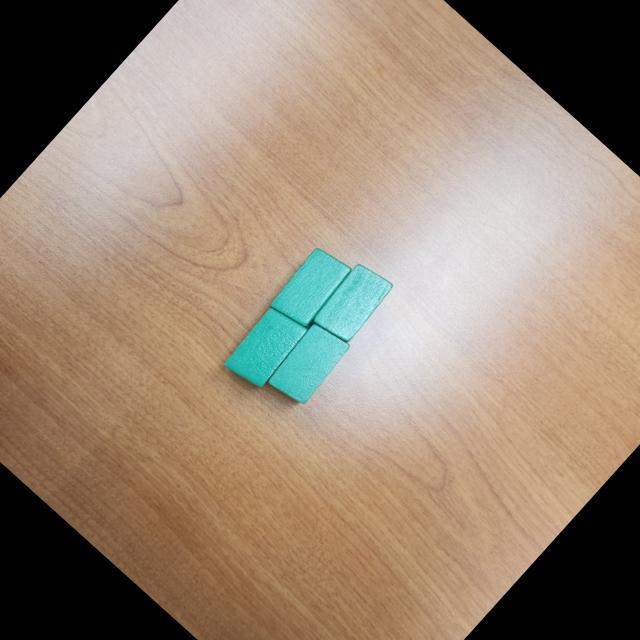green: (217, 298, 312, 394), (260, 315, 354, 412), (264, 240, 356, 334), (306, 256, 397, 350)
